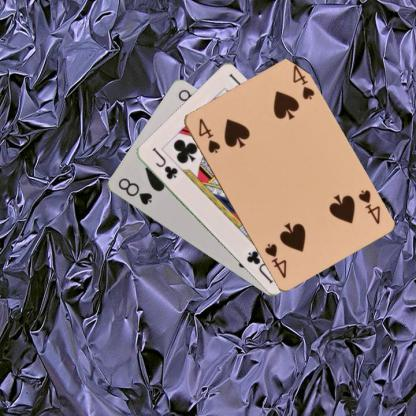4s: (355, 187, 381, 226), (196, 116, 222, 154)
8s: (115, 175, 153, 207)
Jc: (149, 144, 179, 181)
